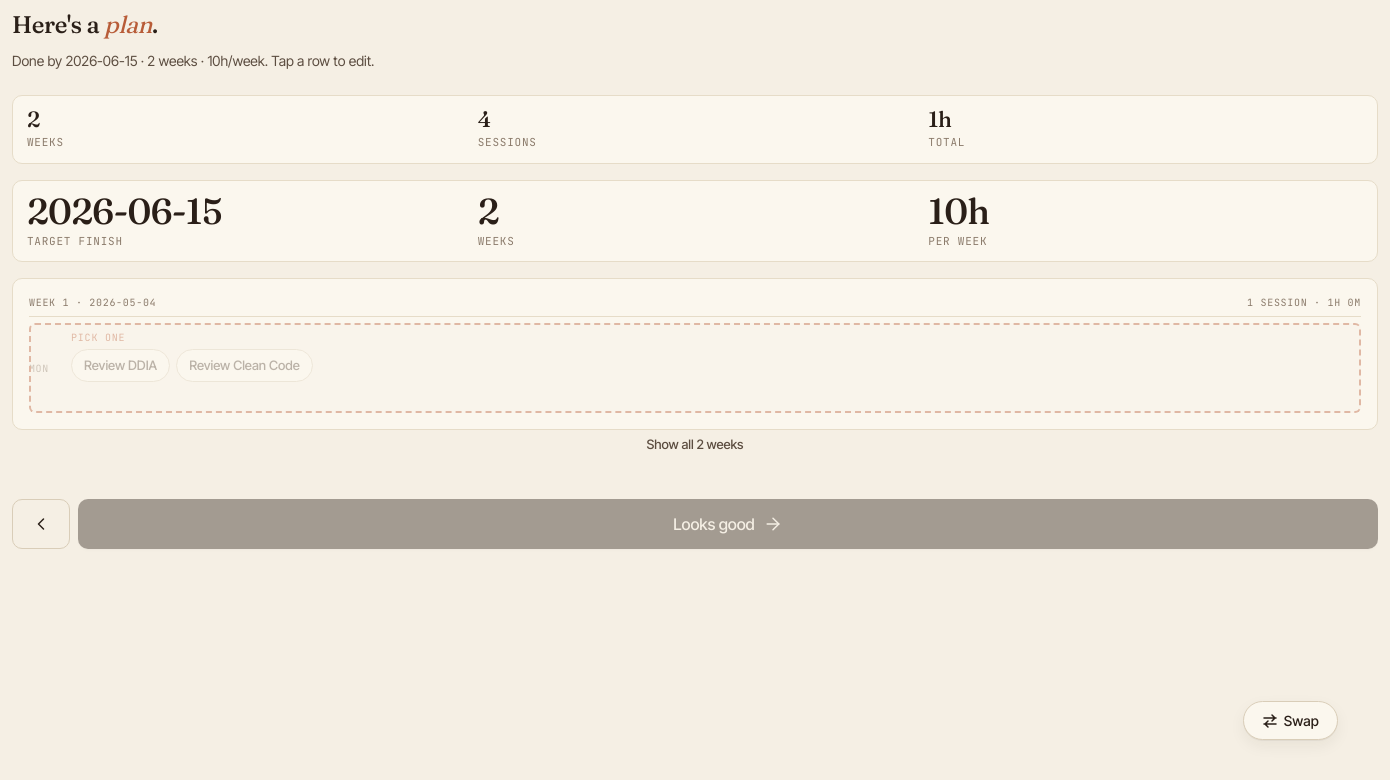
Test: OnboardingFlow (Integration) › tie resolution: multi-candidate slot shows Pick one, user resolves → commit enabled
This screenshot has width=1390, height=780.
Expected: the text "Pick one" is shown, 71,331 -> 125,344
Step 1. Click the button "Review DDIA" → (121, 366), box 71,349 -> 170,382
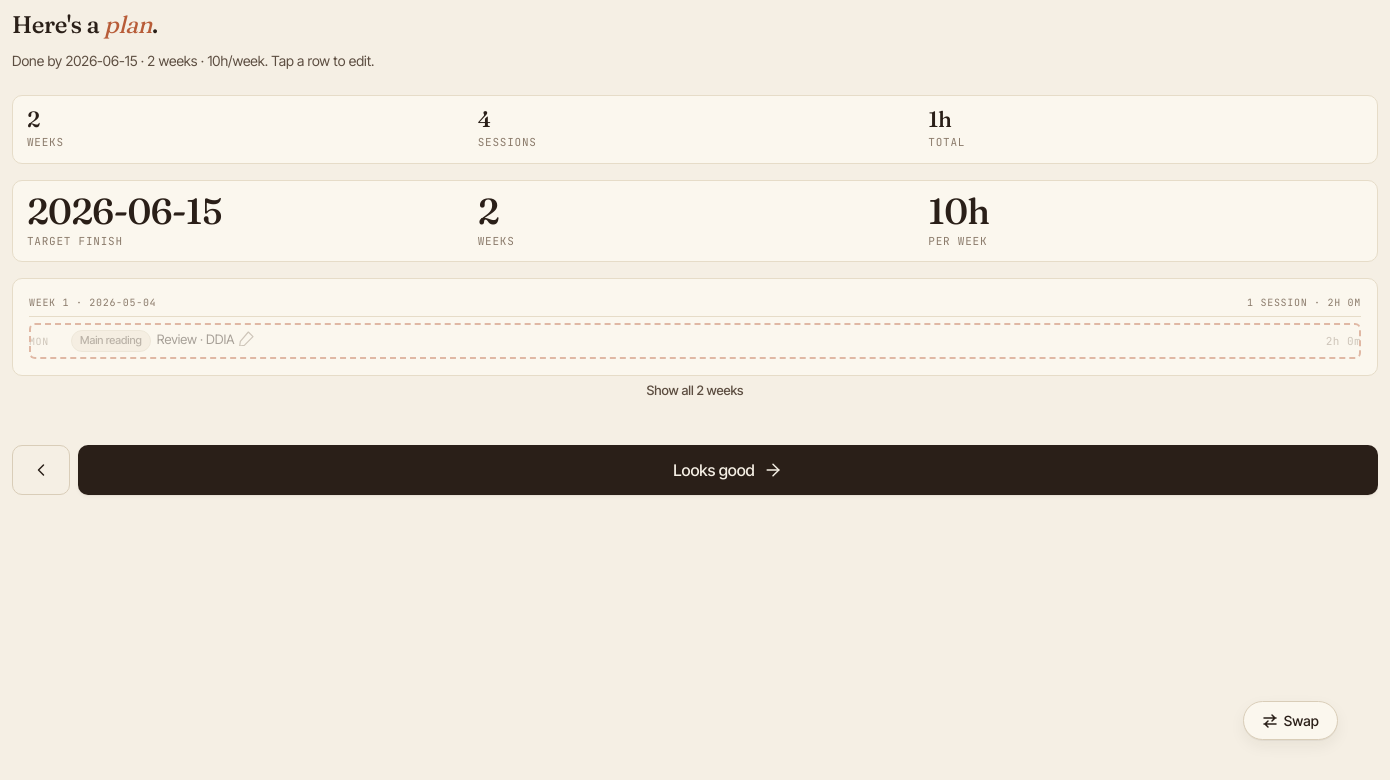
Now the text "Main reading" is shown, box 71,330 -> 151,352
